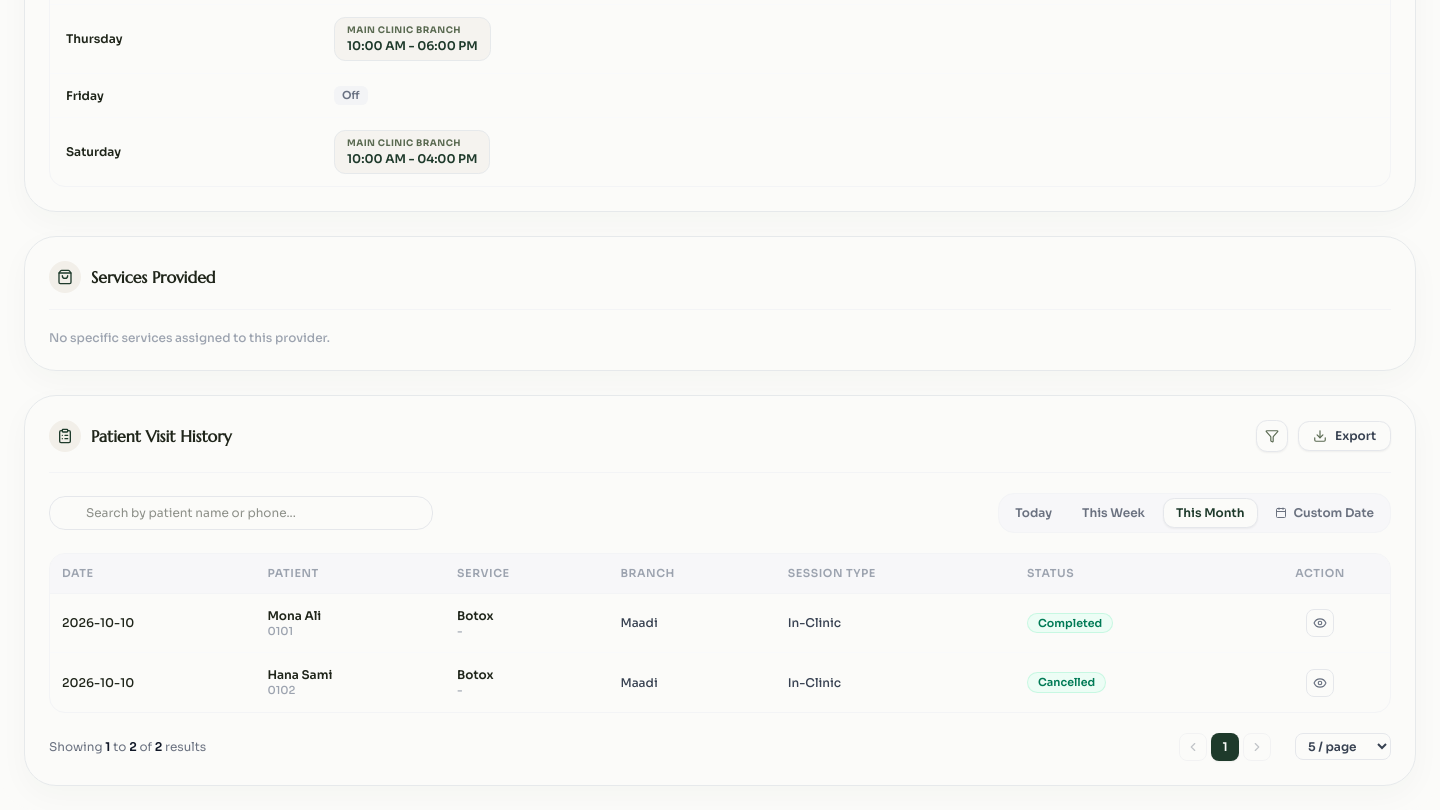
Test: search and status filters › the status filter dropdown narrows to Completed only
The width and height of the screenshot is (1440, 810).
(page scrolled)
Click the button titled "Filter".
click(1272, 436)  # box [1256,420,1288,452]
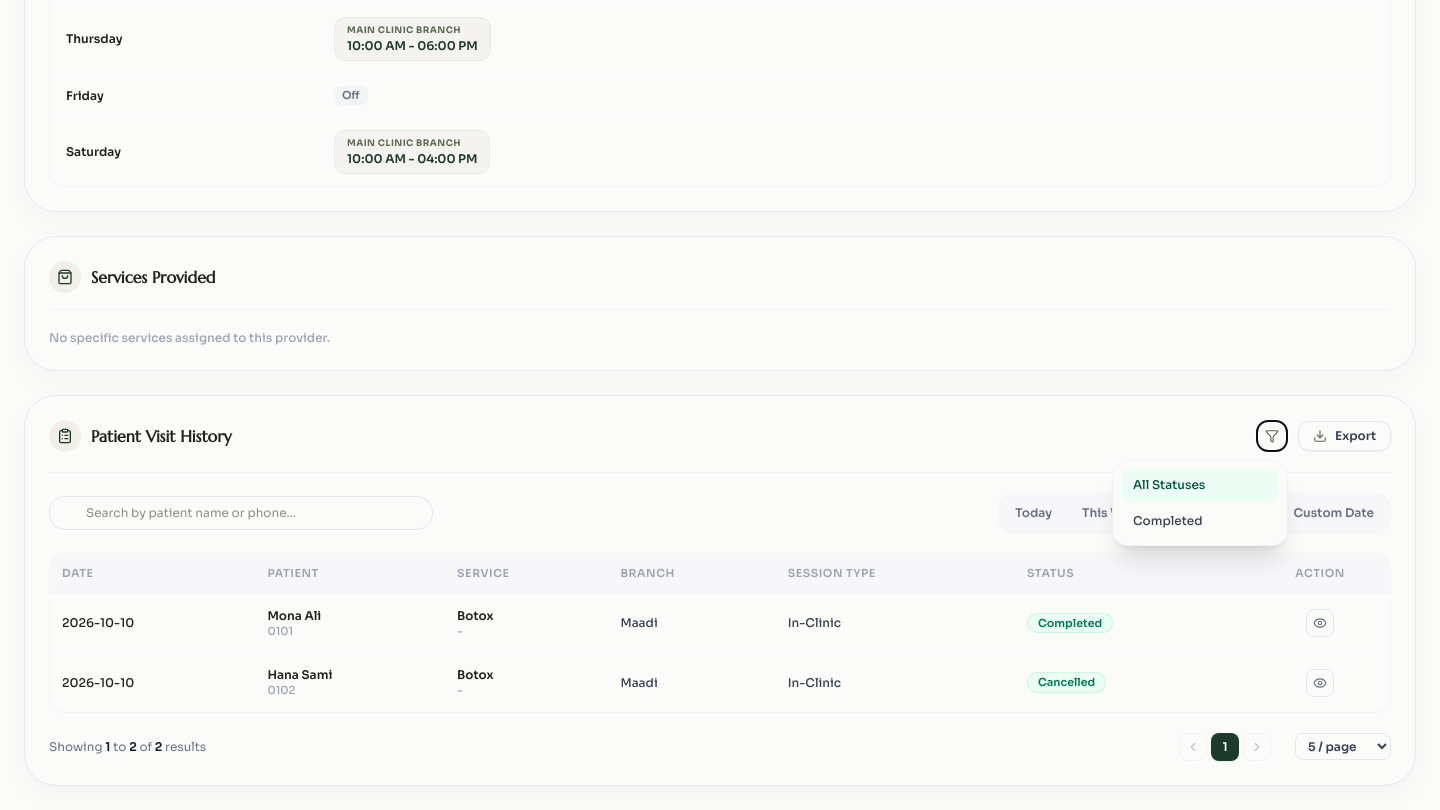
Click the button "Completed".
click(1200, 521)  # box [1121,505,1279,537]
(page scrolled)
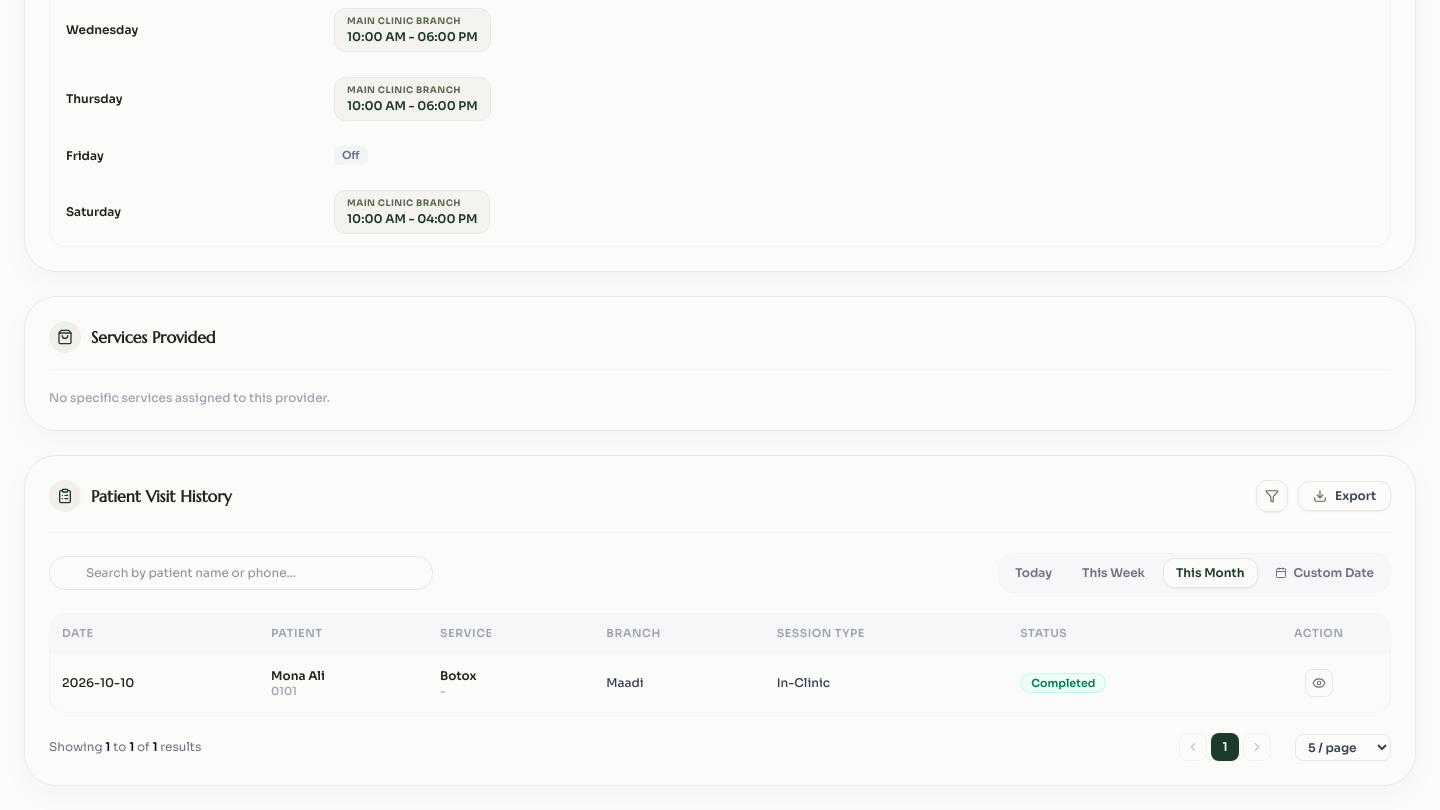
Expected: the text "Mona Ali" is shown, [271,667,325,682]
Result: the text "Hana Sami" is gone
